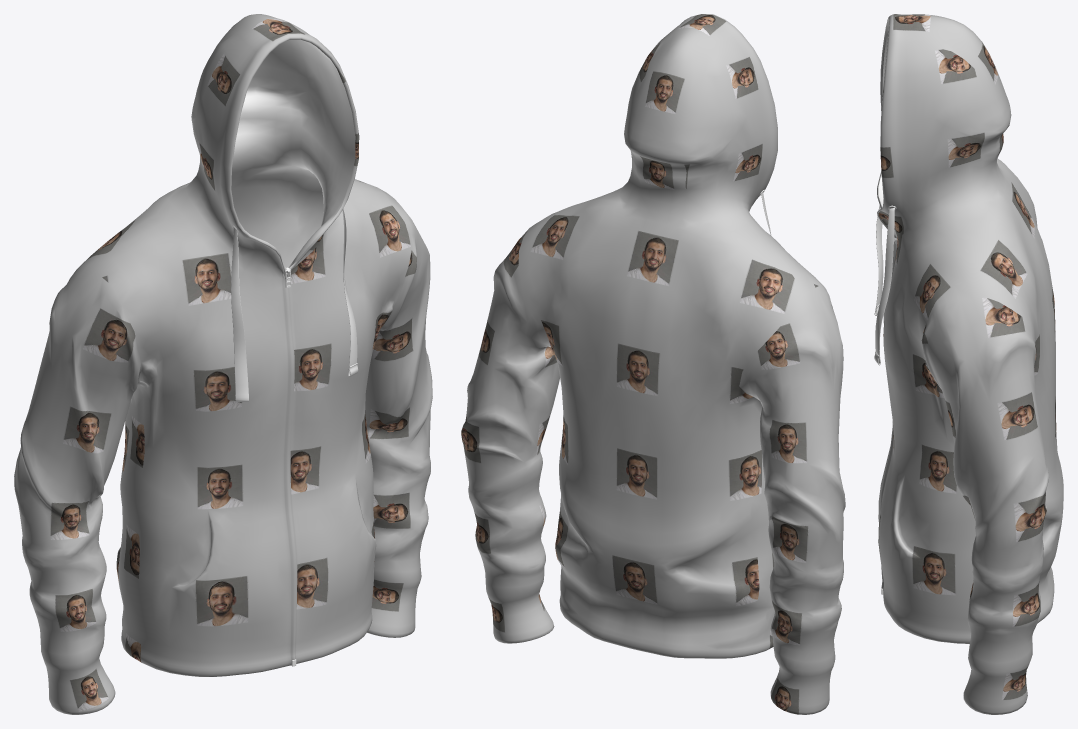
File: KraftWear_hoodie_model_4.gltf
3 views of the same model, side by side, from view 1: azimuth 30°, elevation 25°; view 2: azimuth 150°, elevation 25°; view 3: azimuth 270°, elevation 25° (orthographic). The views are drawn at different scales.
Parts seen in each view (by area): view 1: hoodie.001, hoodie, Line002; view 2: hoodie.001; view 3: hoodie.001, Line002.
Boxes of the visible parts, x1=… form: hoodie.001: x1=14, y1=14, x2=432, y2=714; hoodie: x1=231, y1=39, x2=355, y2=267; Line002: x1=231, y1=209, x2=358, y2=401; hoodie.001: x1=461, y1=14, x2=845, y2=714; hoodie.001: x1=877, y1=14, x2=1063, y2=714; Line002: x1=874, y1=205, x2=894, y2=365.
Size of the model in its own units: 0.6343 by 1.01 by 0.2793.
Materials: 4 (1 with a texture image).
